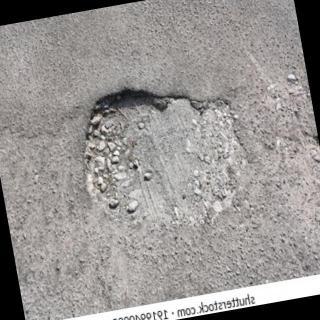pothole: (85, 90, 246, 224)
